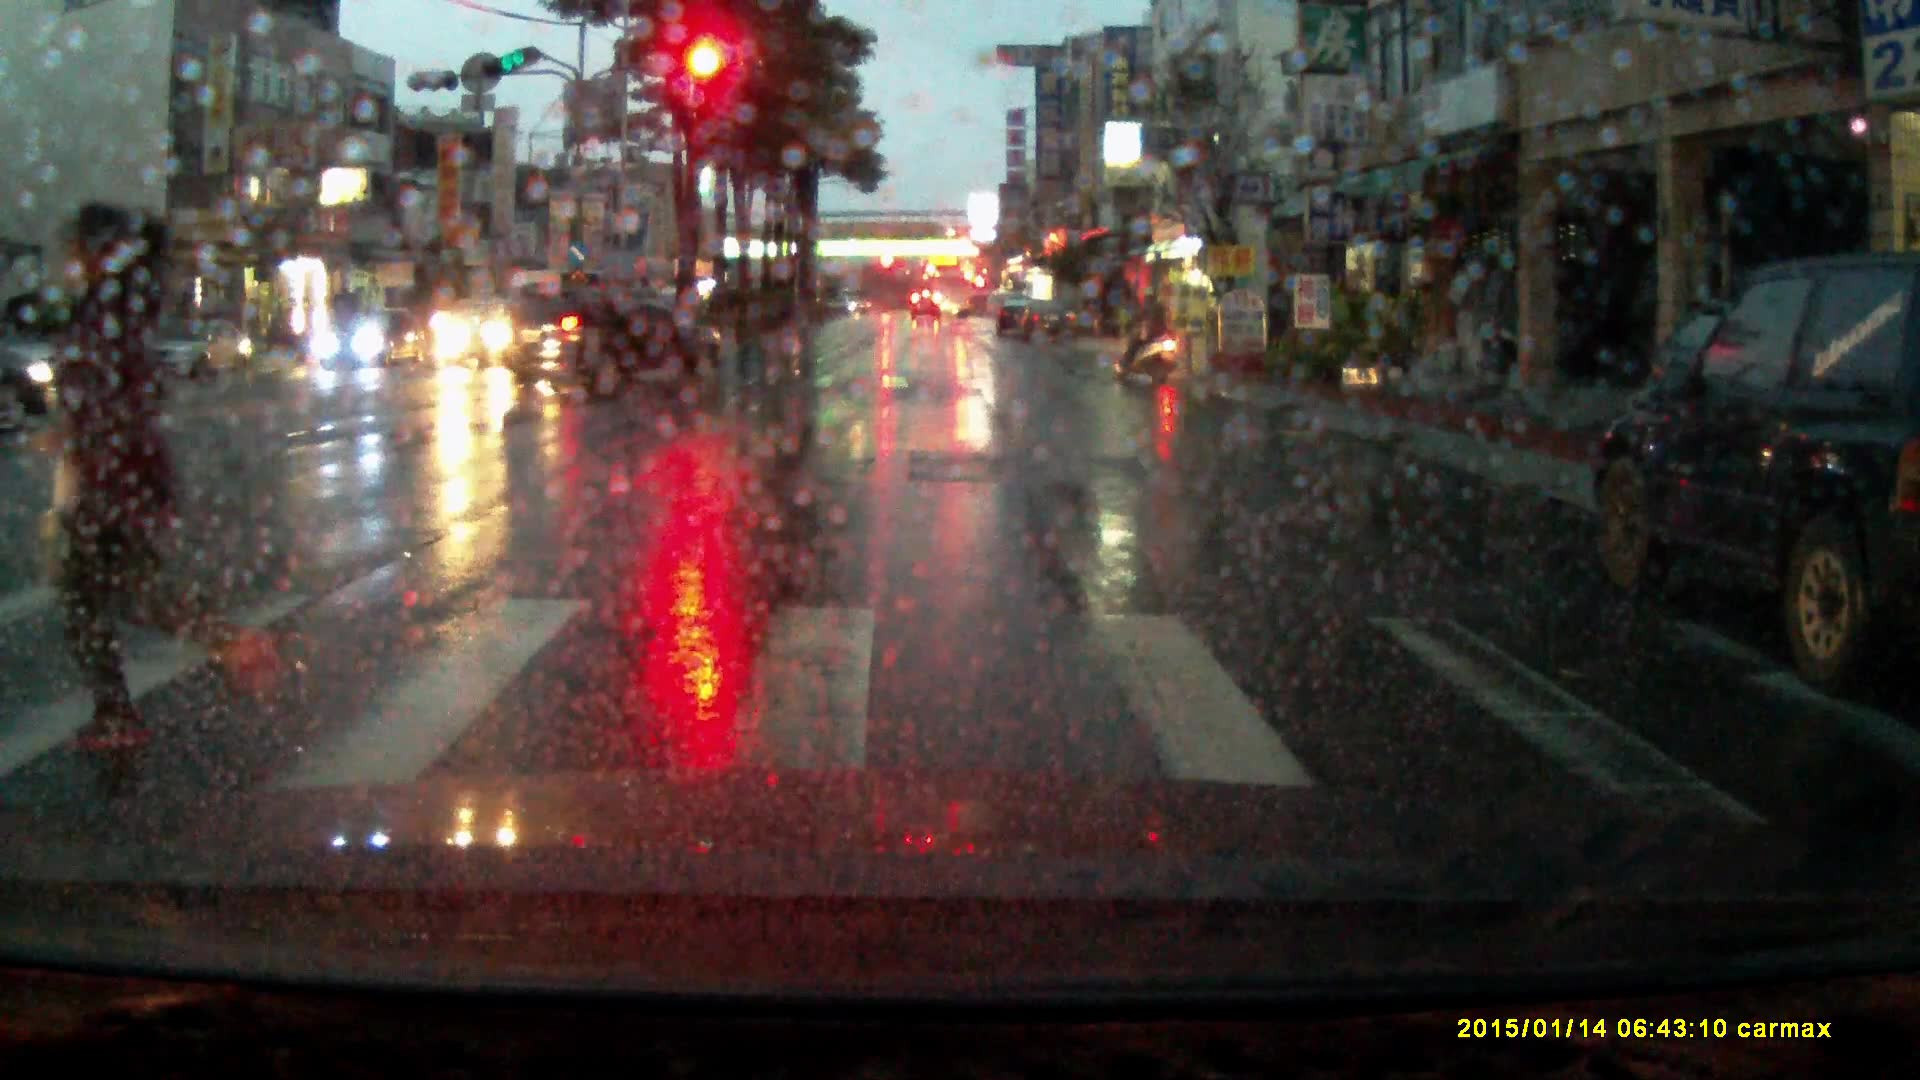rider: (1121, 278, 1188, 386)
vehicle: (1582, 248, 1920, 683), (489, 283, 726, 398), (317, 304, 429, 373), (142, 314, 253, 380), (494, 268, 591, 341), (1, 340, 63, 430), (574, 288, 664, 340), (1017, 300, 1079, 346), (931, 264, 973, 321), (995, 295, 1030, 338), (911, 291, 943, 322)
